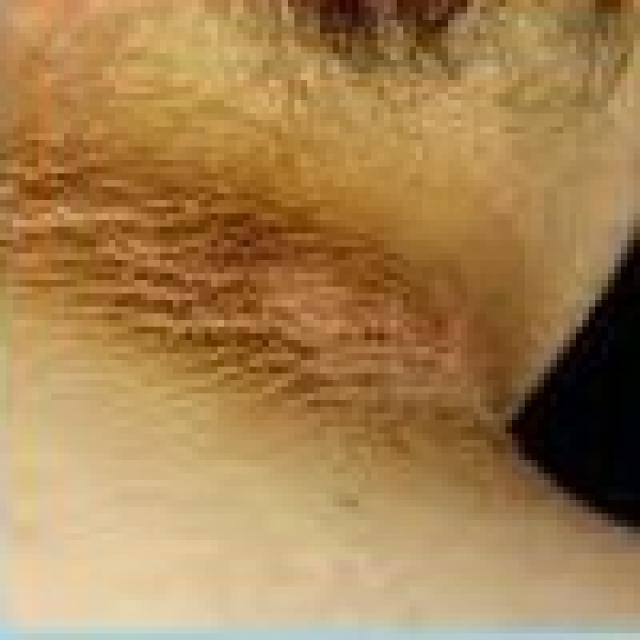Acanthosis Nigricans: (0, 17, 563, 576)
